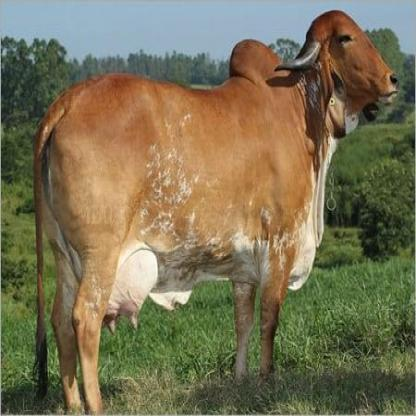cow: (35, 10, 397, 416)
